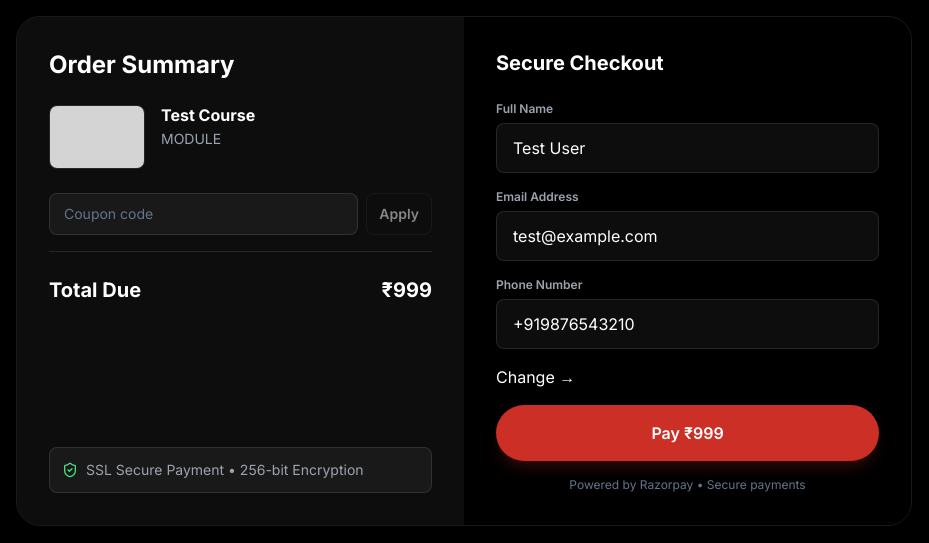
Test: Checkout › shows coupon error for invalid code
expect the heading "Test Course" is shown: met, box [161,105,255,125]
Type "BAD" into the field with placeholder "Coupon code" at [204, 214], box [49,193,358,235]
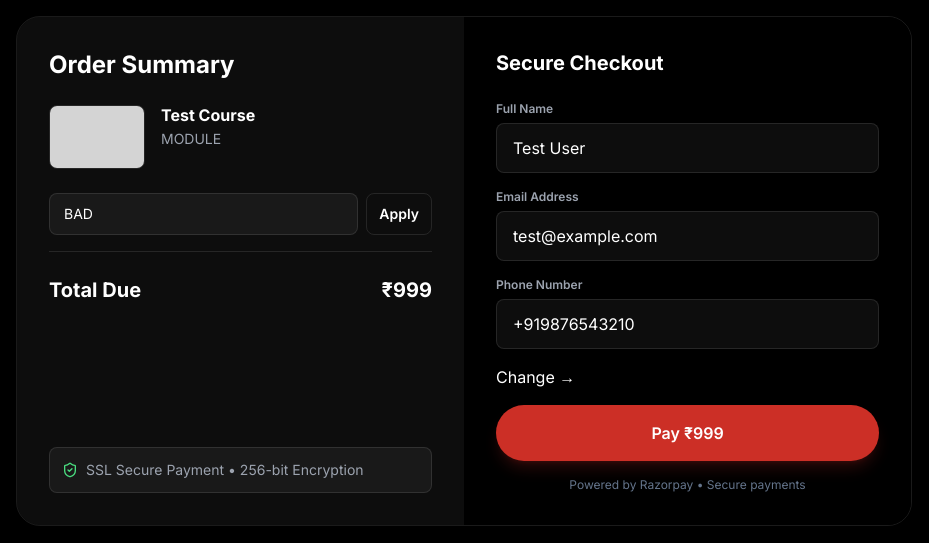
Click the button "Apply" at [399, 214], box [366,193,432,235]
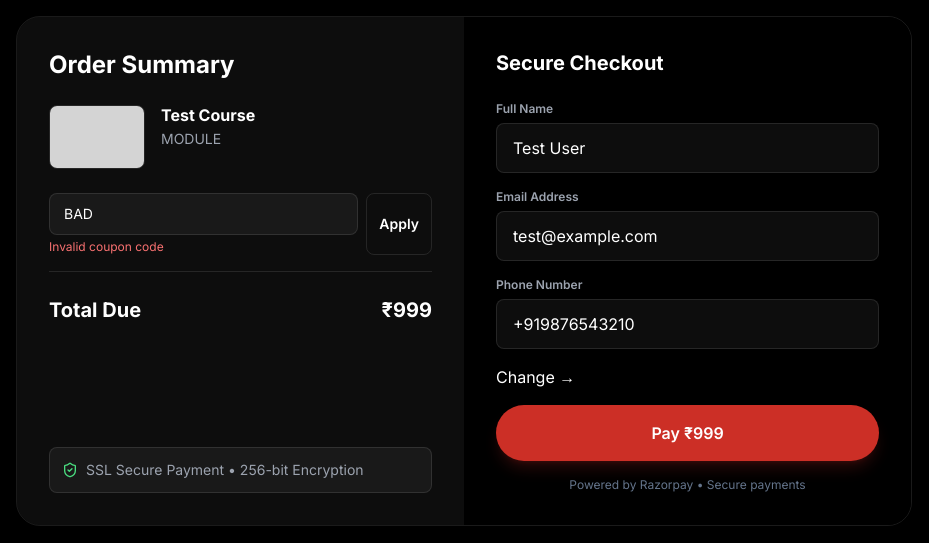
expect the text "Invalid coupon code" is shown: met, box [49,239,164,254]
